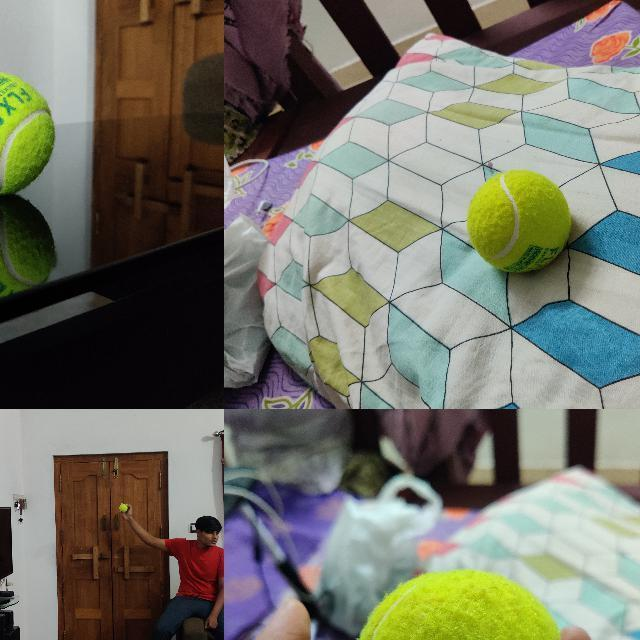tennis-ball: (352, 568, 574, 639), (466, 170, 570, 272), (0, 70, 56, 196), (119, 503, 128, 511)
